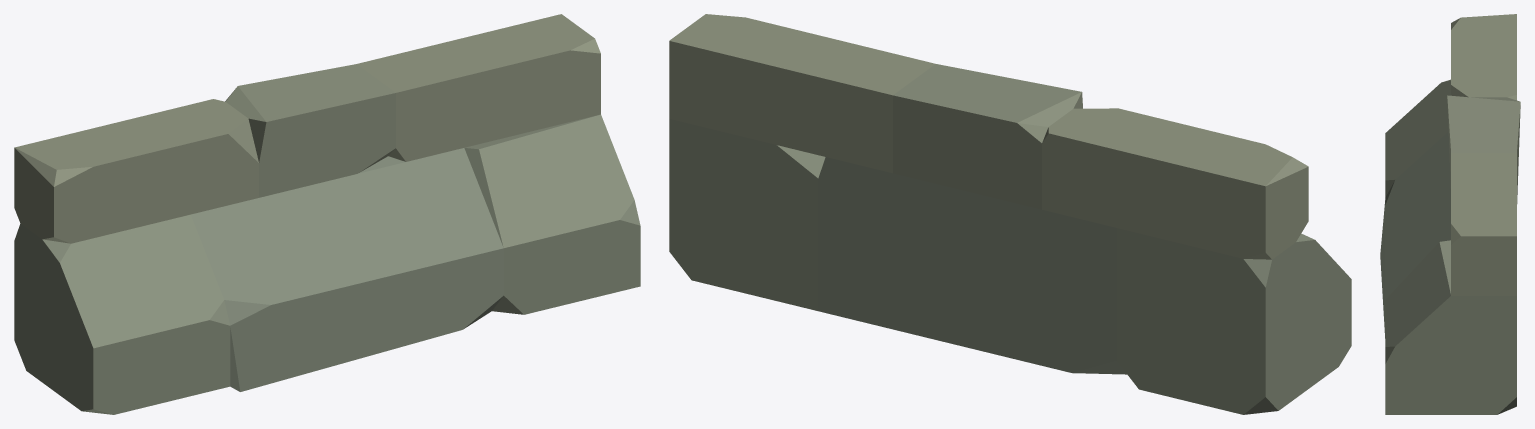
Rendered from wall_paneling_1x2.fbx.
3 views of the same model, side by side, from view 1: azimuth 30°, elevation 25°; view 2: azimuth 150°, elevation 25°; view 3: azimuth 270°, elevation 25° (orthographic). The views are drawn at different scales.
Parts seen in each view (by area): view 1: wall_paneling_1x2; view 2: wall_paneling_1x2; view 3: wall_paneling_1x2.
Boxes of the visible parts, box(x1,y1,x2,y2) form: wall_paneling_1x2: box(14, 14, 640, 414); wall_paneling_1x2: box(669, 14, 1351, 414); wall_paneling_1x2: box(1380, 14, 1520, 414).
Bounding box in the file's own units: 200 × 78.41 × 53.44.
